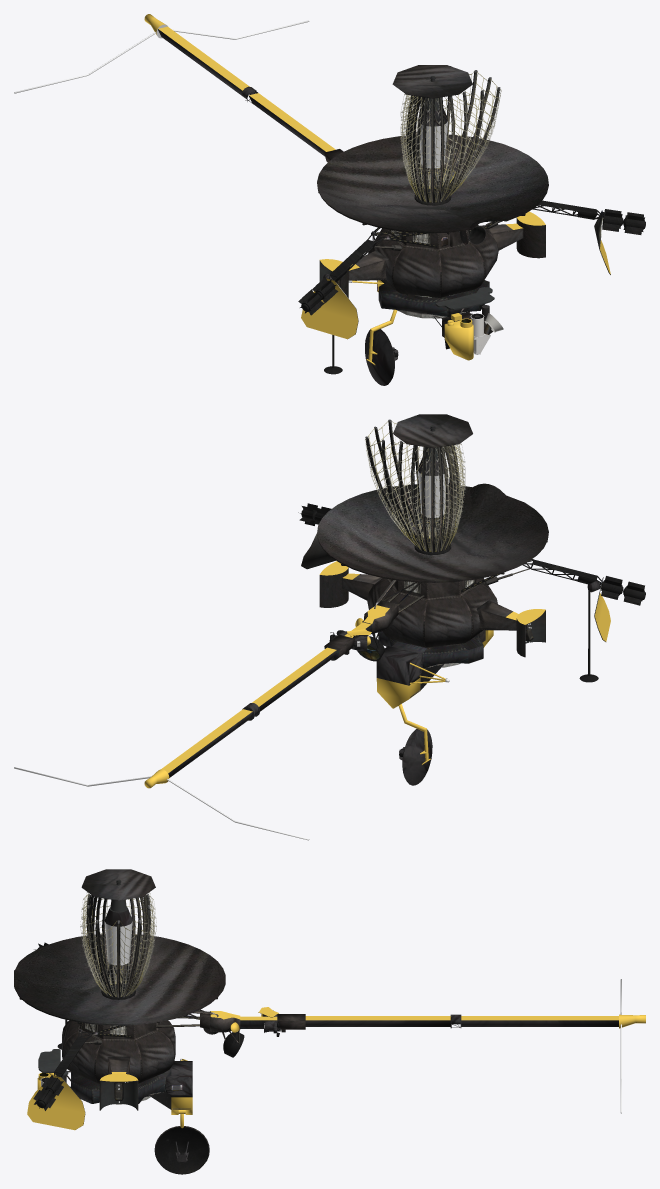
File: galileo.glb
The picture shows the model from 3 angles, top to bottom: view 1: azimuth 30°, elevation 25°; view 2: azimuth 150°, elevation 25°; view 3: azimuth 270°, elevation 25°; orthographic projection. The views are drawn at different scales.
Visible parts, largest first — view 1: spinning_section, tex_01_ant_ribs, tex_02_ant, static_section, foil_gold, text_02_na; view 2: spinning_section, tex_01_ant_ribs, tex_02_ant, static_section, foil_gold; view 3: spinning_section, static_section, tex_01_ant_ribs, tex_02_ant, foil_gold.
Part boxes in pixels (x1,y1,x2,y2): spinning_section: (14, 14, 645, 374); tex_01_ant_ribs: (406, 66, 500, 202); tex_02_ant: (400, 71, 501, 202); static_section: (365, 280, 494, 385); foil_gold: (352, 280, 473, 365); text_02_na: (461, 313, 503, 354); spinning_section: (14, 414, 645, 840); tex_01_ant_ribs: (365, 419, 459, 552); tex_02_ant: (365, 421, 465, 551); static_section: (376, 630, 485, 785); foil_gold: (376, 630, 493, 764); spinning_section: (14, 869, 645, 1130); static_section: (38, 1049, 209, 1174); tex_01_ant_ribs: (86, 894, 150, 997); tex_02_ant: (80, 892, 156, 996); foil_gold: (37, 1059, 192, 1128).
Size of the model in its own units: 7.45 by 6.77 by 12.79.
6 materials, 4 textured.
